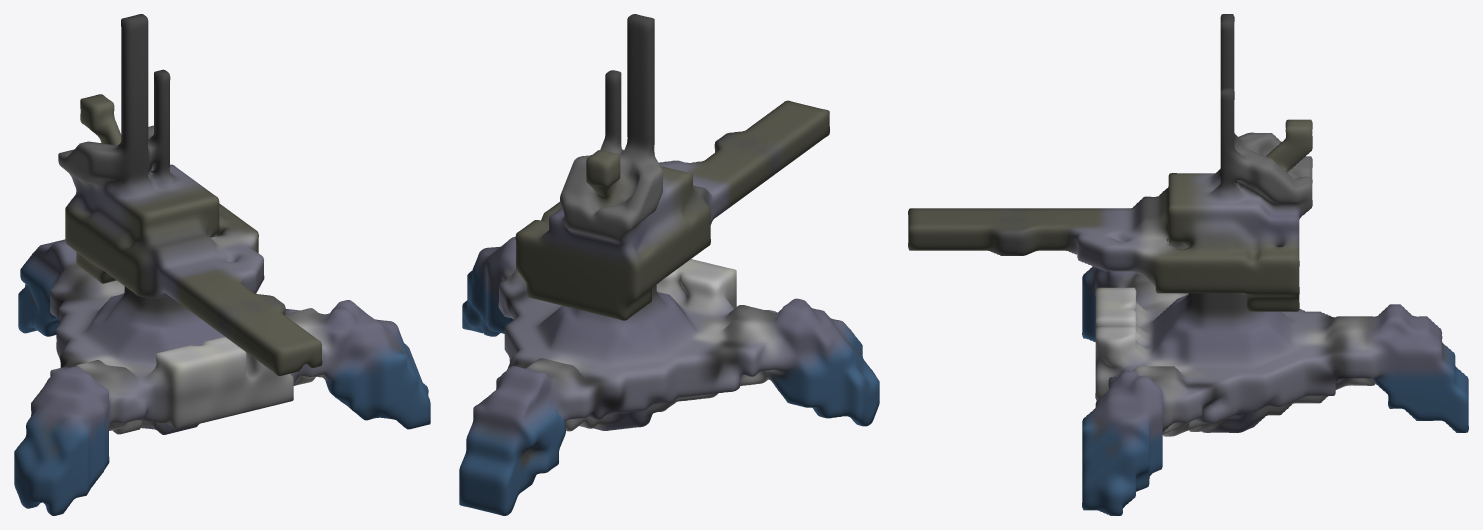
Rendered from robot_tank.glb.
3 renders of one model, left to right at view 1: azimuth 30°, elevation 25°; view 2: azimuth 150°, elevation 25°; view 3: azimuth 270°, elevation 25°, orthographic. The views are drawn at different scales.
Parts seen in each view (by area): view 1: robot_tank; view 2: robot_tank; view 3: robot_tank.
Boxes of the visible parts, <box> form: robot_tank: <box>14,14,430,515</box>; robot_tank: <box>459,14,879,515</box>; robot_tank: <box>908,14,1468,515</box>.
Size of the model in its own units: 2.79 by 2.69 by 3.5.
